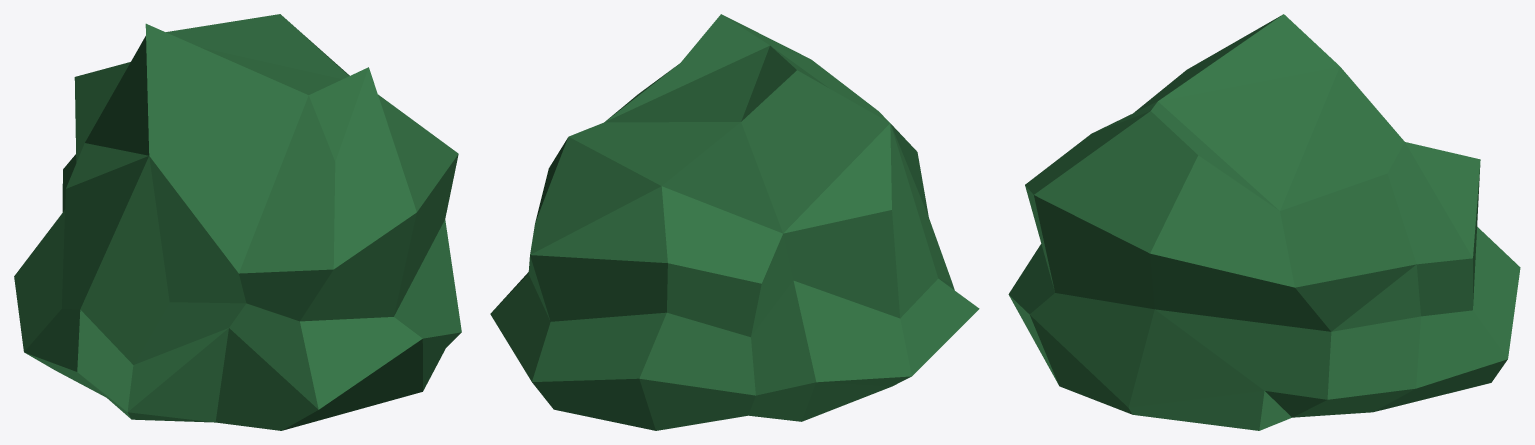
File: Bush2.fbx
3 views of the same model, side by side, from view 1: azimuth 30°, elevation 25°; view 2: azimuth 150°, elevation 25°; view 3: azimuth 270°, elevation 25° (orthographic). The views are drawn at different scales.
Visible parts, largest first — view 1: Bush.2; view 2: Bush.2; view 3: Bush.2.
Part boxes in pixels (x1,y1,x2,y2): Bush.2: [14, 14, 461, 430]; Bush.2: [490, 14, 979, 430]; Bush.2: [1008, 14, 1520, 430].
Bounding box in the file's own units: 548 × 495 × 660.
